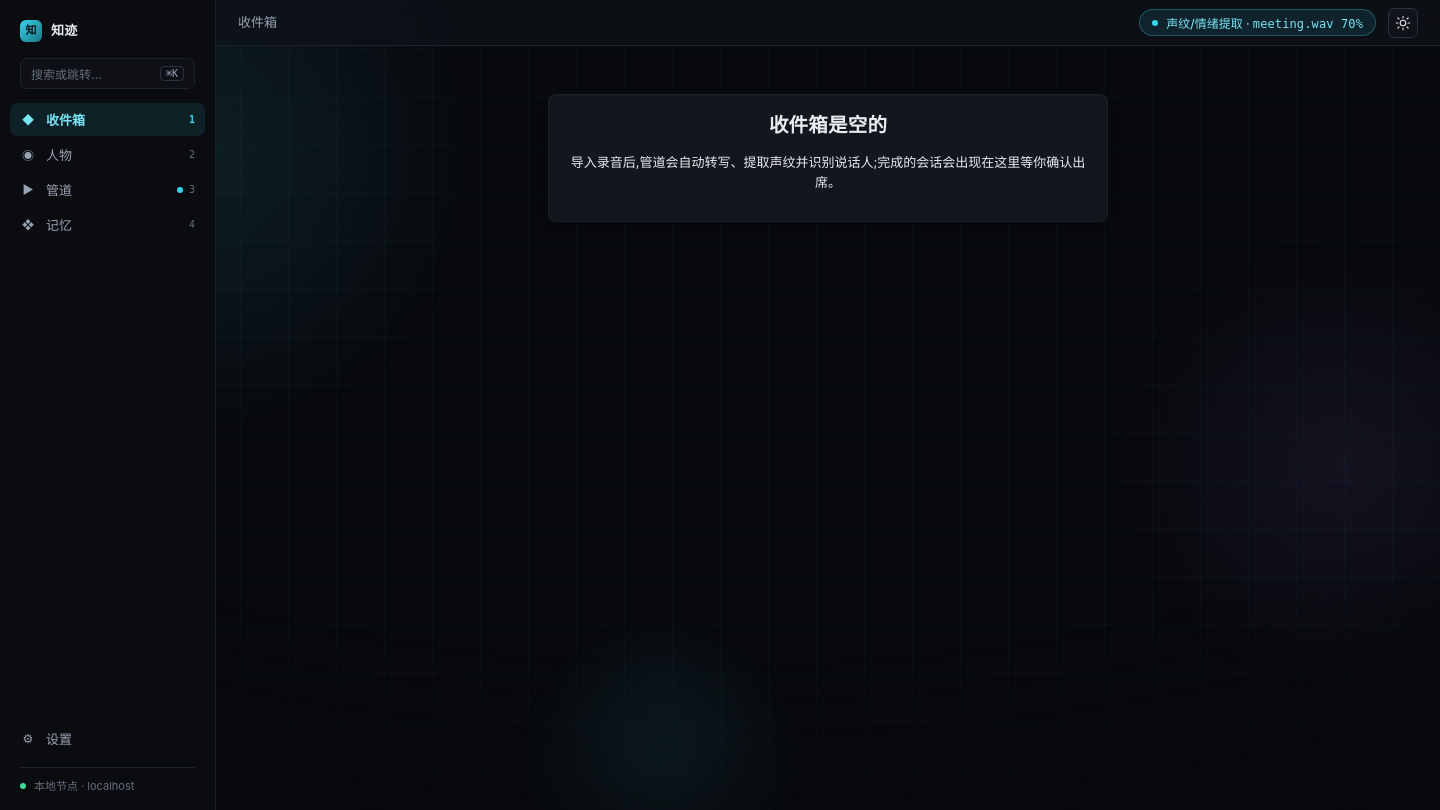
Test case: App container › streams per-file voiceprint and emotion progress for extract_features
The image size is (1440, 810).
Expected: the button "声纹/情绪提取 · meeting.wav 70%" is shown, top-left (1139, 9), bottom-right (1376, 36)
Click the tab "▶ 管道 3".
click(108, 190)  # box top-left (10, 173), bottom-right (205, 206)
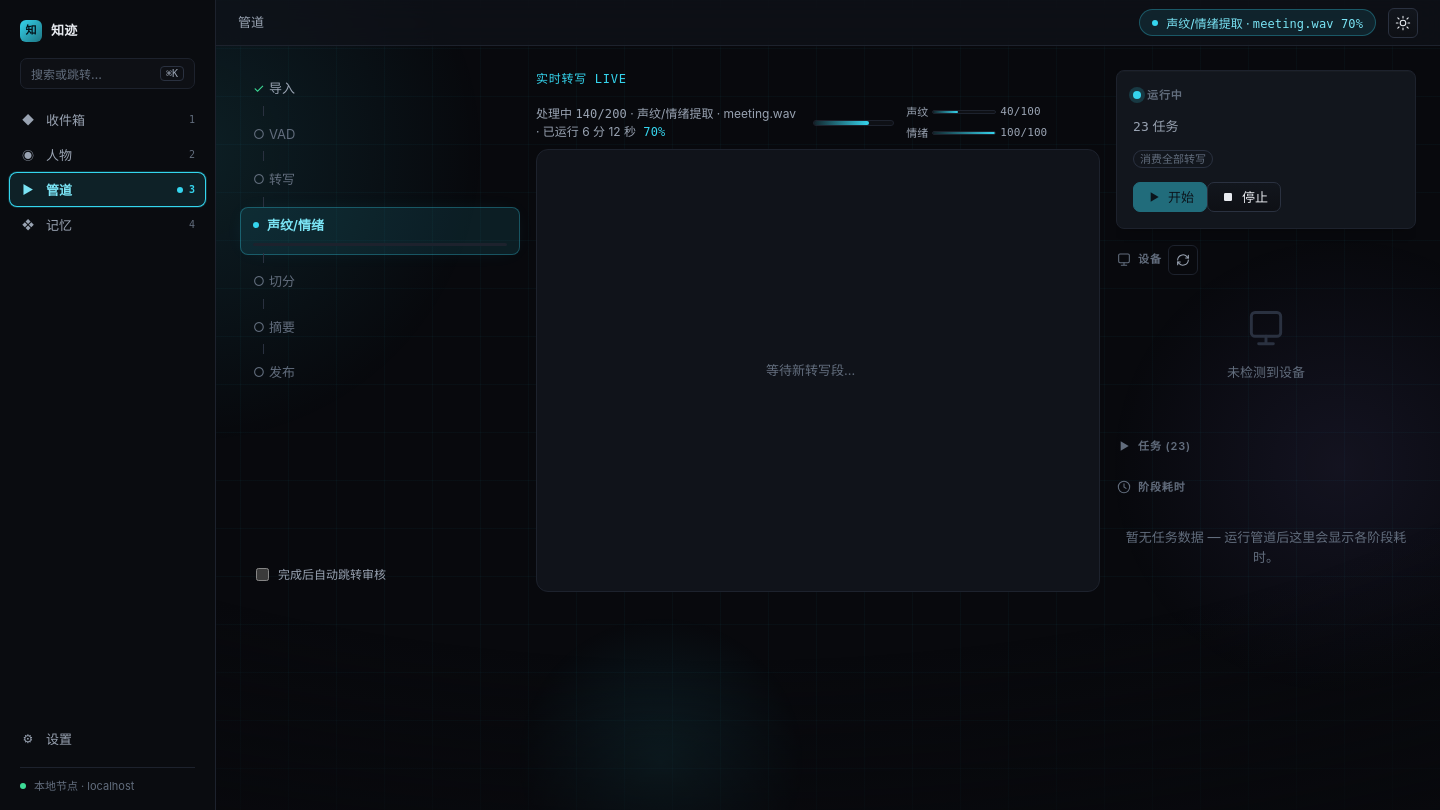
Now the text "声纹" shows "40/100", box top-left (906, 104), bottom-right (1041, 120)
Now the text "情绪" shows "100/100", box top-left (906, 124), bottom-right (1047, 141)
Now the text "处理中 140/200 · 声纹/情绪提取 · meeting.wav · 已运行 6 分 12 秒 70%" is shown, box top-left (536, 104), bottom-right (801, 140)
